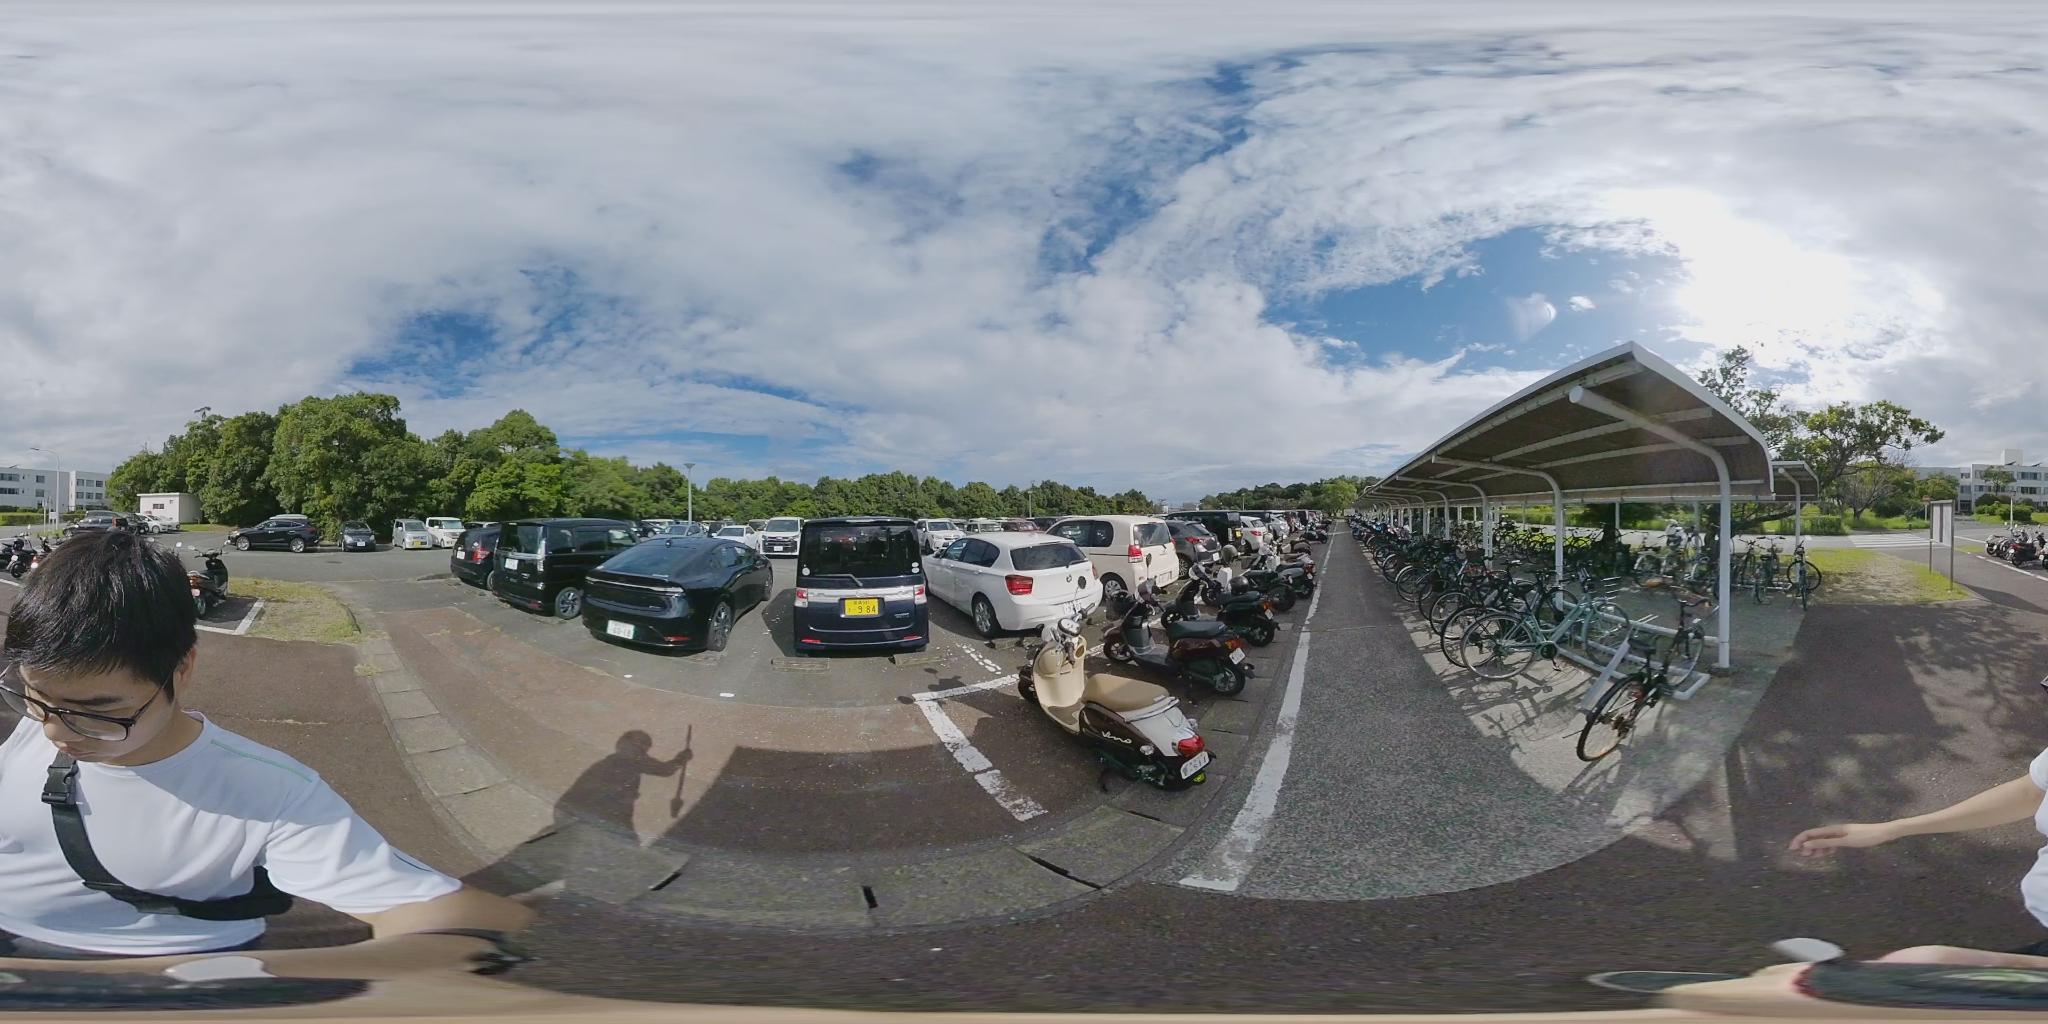car: (567, 534, 780, 657), (922, 530, 1097, 643), (460, 516, 652, 607), (802, 516, 926, 657), (1042, 517, 1202, 605), (232, 516, 316, 550), (397, 519, 468, 549), (755, 519, 806, 555), (346, 528, 387, 552)
